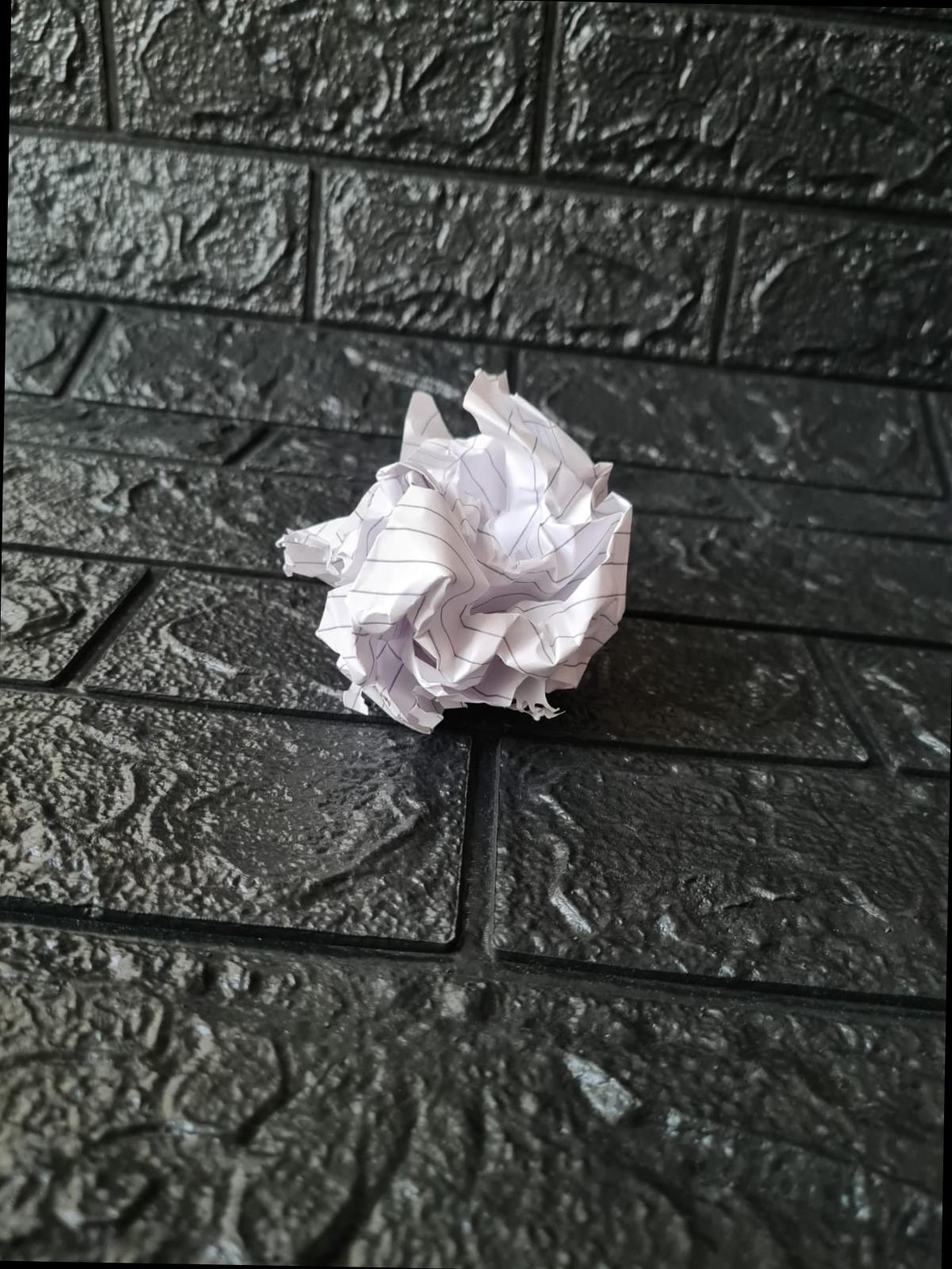Kertas: (318, 373, 630, 725)
